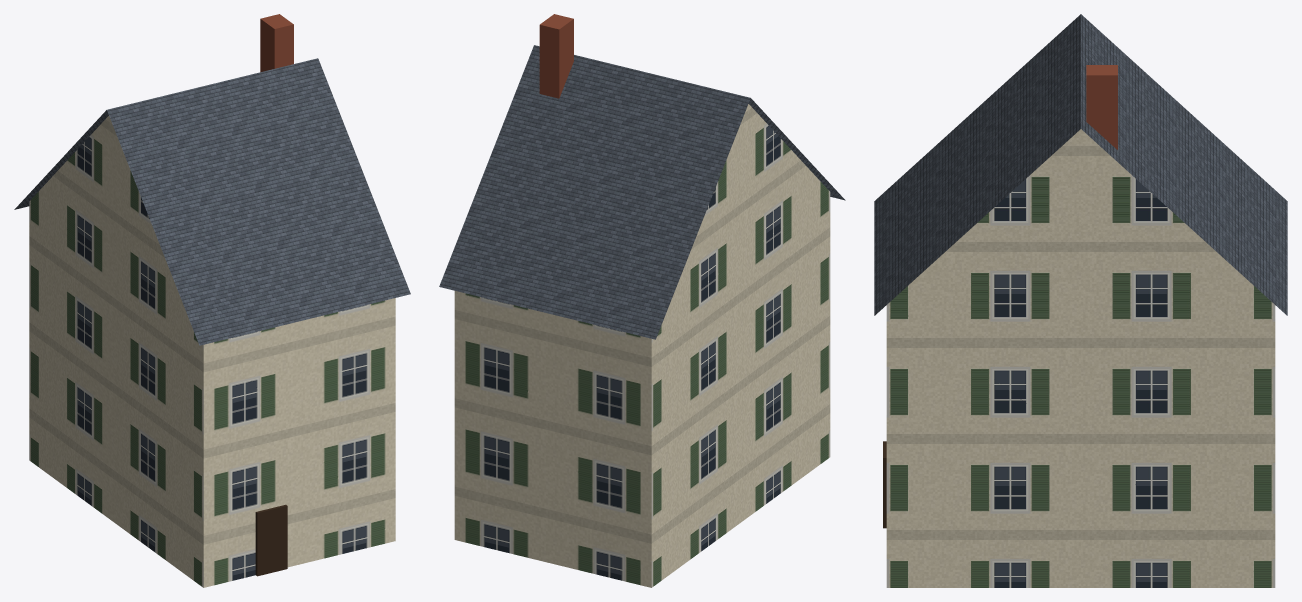
File: casa_cidade.glb
3 views of the same model, side by side, from view 1: azimuth 30°, elevation 25°; view 2: azimuth 150°, elevation 25°; view 3: azimuth 270°, elevation 25° (orthographic). The views are drawn at different scales.
Visible parts, largest first — view 1: Casa.003; view 2: Casa.003; view 3: Casa.003.
Boxes of the visible parts, x1,y1,x2,y2 form: Casa.003: (14, 14, 410, 587); Casa.003: (439, 14, 845, 587); Casa.003: (874, 14, 1287, 587).
Size of the model in its own units: 7.7 by 15.8 by 11.7.
Materials: 4 (2 with a texture image).
